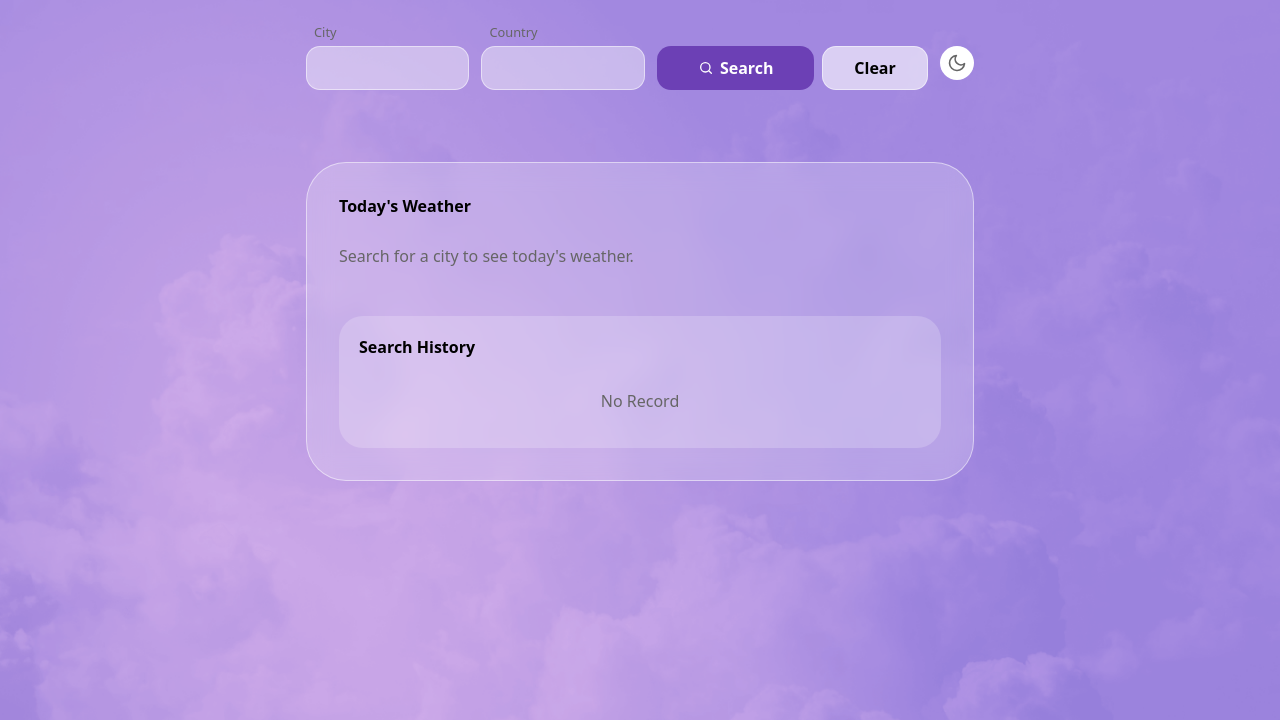
Test: App › shows the weather and records history after a successful search
In the field labelled "City": (388, 68) [306,46,470,90], type "Johor"
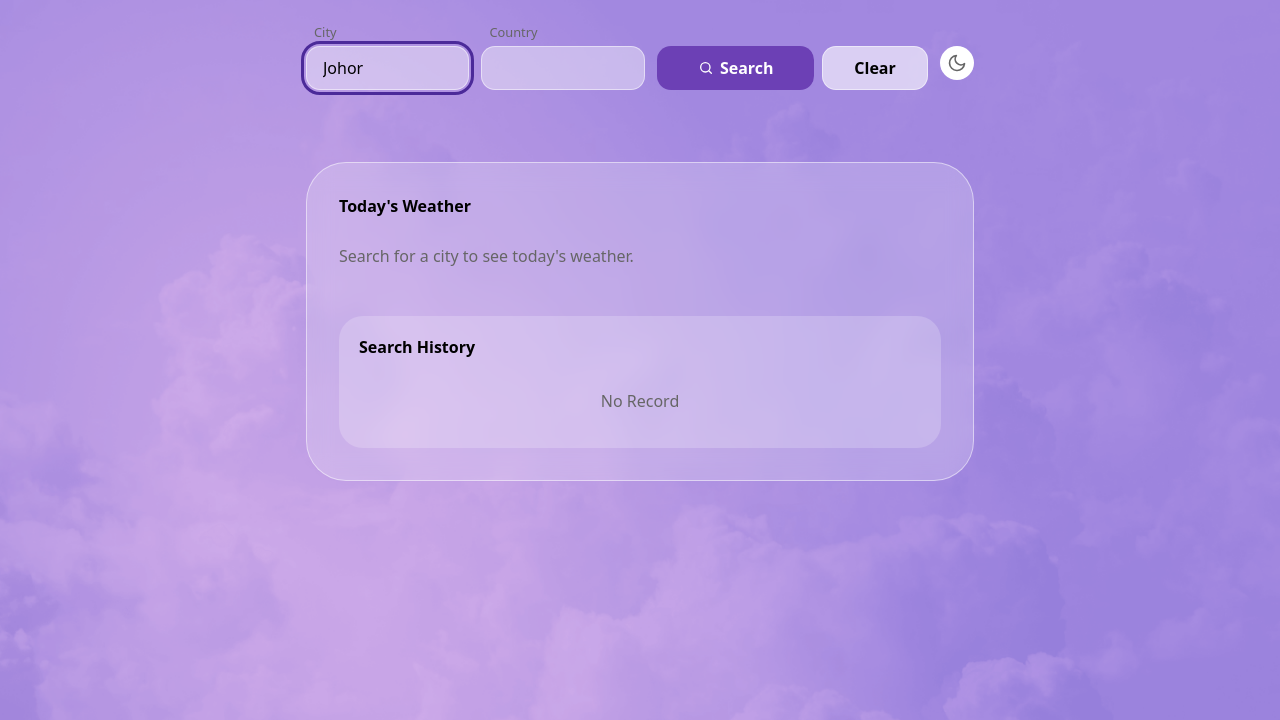
In the field labelled "Country": (563, 68) [482,46,645,90], type "Malaysia"
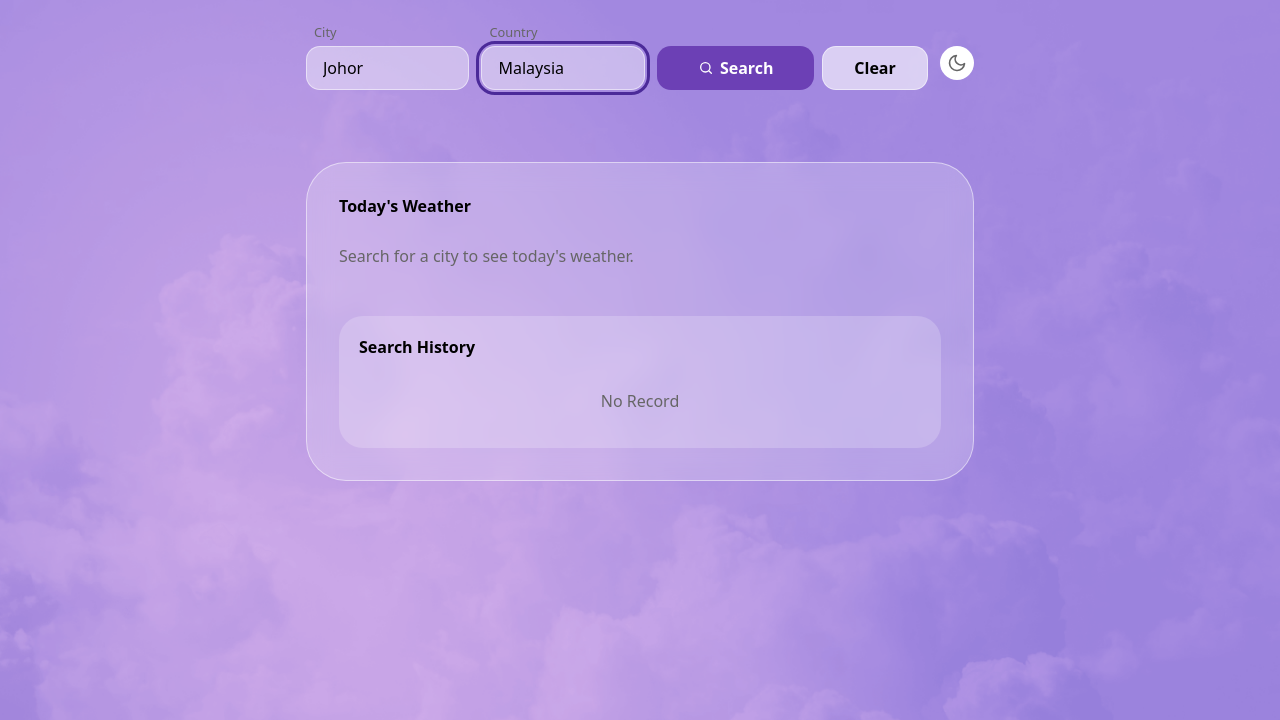
Click the button "Search": (736, 68) [657,46,814,90]
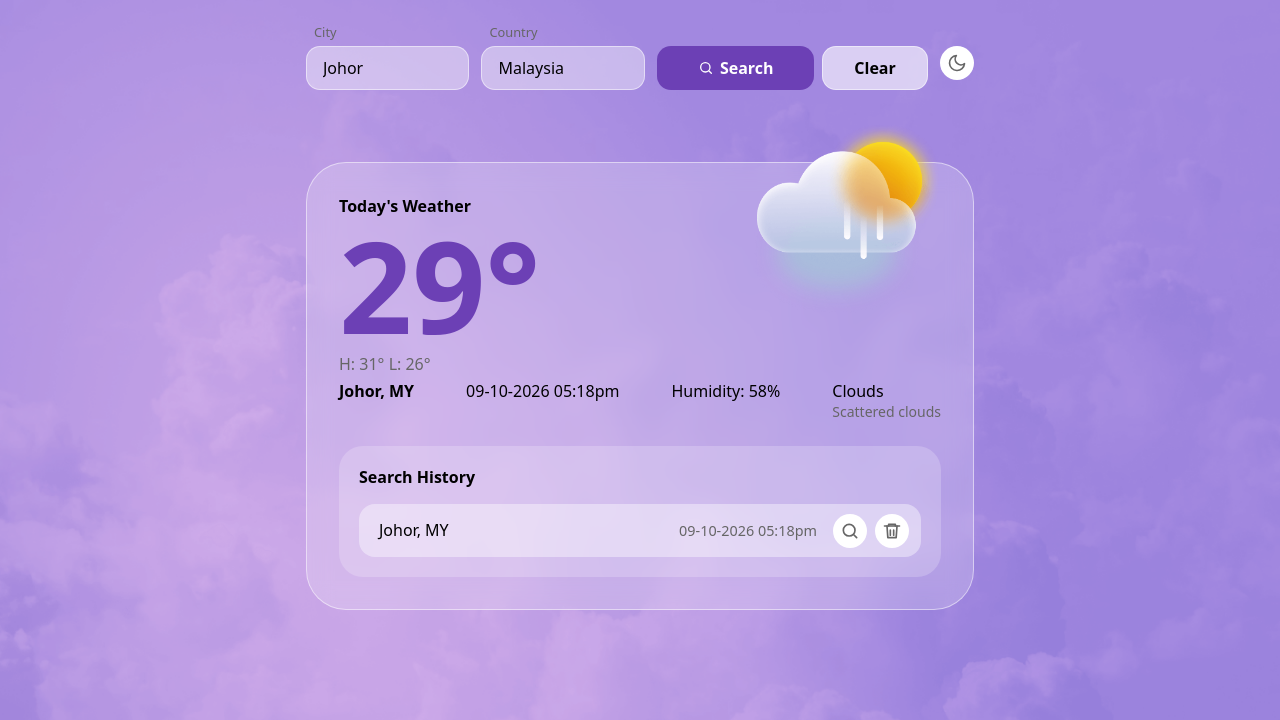
Now the text "29°" is shown, box [339,197,540,372]
Now the text "H: 31° L: 26°" is shown, box [339,353,431,375]
Now the text "Humidity: 58%" is shown, box [672,380,780,402]
